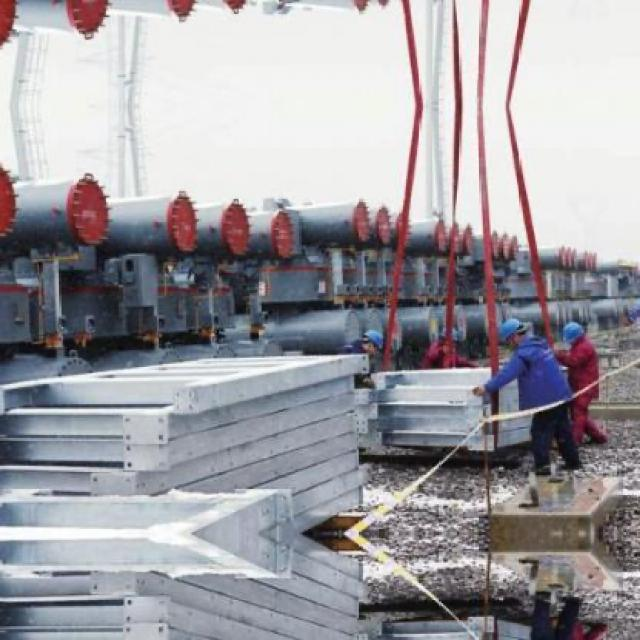helmet: (498, 319, 531, 352), (562, 321, 588, 350), (362, 327, 388, 352)
